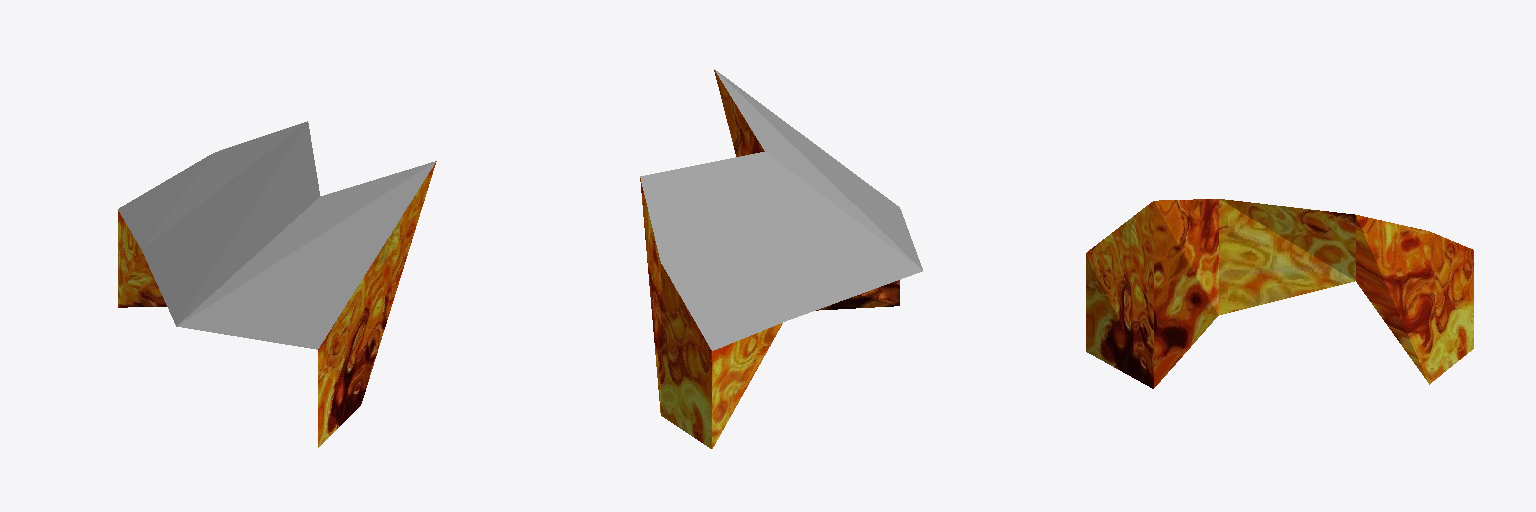
3 views of the same model, side by side, from view 1: azimuth 30°, elevation 25°; view 2: azimuth 150°, elevation 25°; view 3: azimuth 270°, elevation 25° (orthographic).
Parts seen in each view (by area): view 1: debris_Circle; view 2: debris_Circle; view 3: debris_Circle.
Boxes of the visible parts, <box> form: debris_Circle: <box>118,121,436,447</box>; debris_Circle: <box>640,69,922,448</box>; debris_Circle: <box>1086,199,1473,388</box>.
Size of the model in its own units: 1.51 by 1.38 by 2.16.
2 materials, 1 textured.